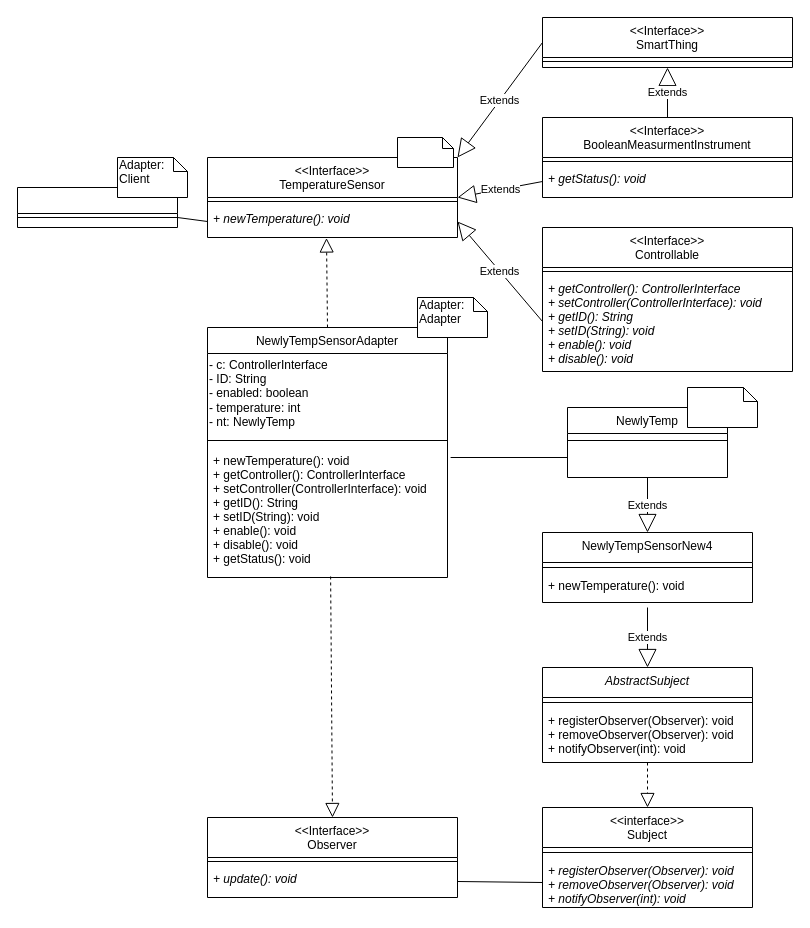
This 810x928 diagram has some shape labels left out. Here are the shapes that lost their labels. From the top down, the centre of each, then its label:
[425,152]: Adapter: Target
[97,207]: Client
[722,407]: Adapter: Adaptee
